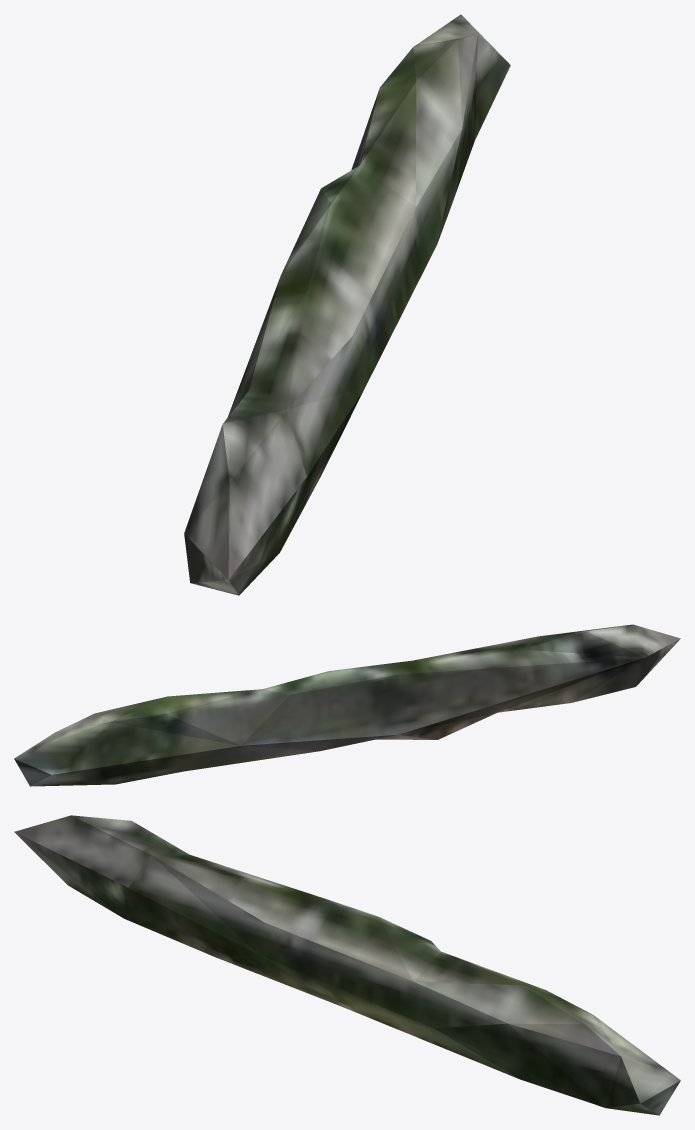
3 renders of one model, top to bottom at view 1: azimuth 30°, elevation 25°; view 2: azimuth 150°, elevation 25°; view 3: azimuth 270°, elevation 25°, orthographic. The views are drawn at different scales.
Bounding box in the file's own units: 0.4838 × 0.0989 × 0.5772.
1 material, 1 textured.
